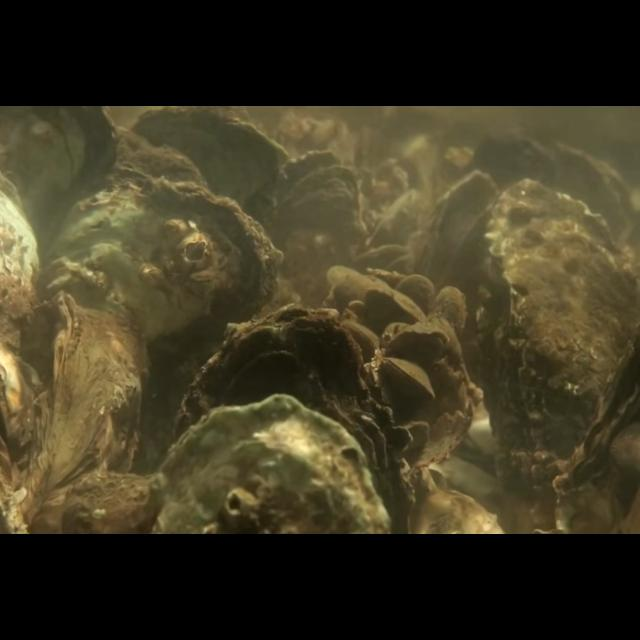Oyster-Closed: (50, 175, 284, 452), (180, 306, 412, 534), (475, 178, 635, 476), (152, 393, 390, 535), (381, 357, 435, 399), (387, 329, 449, 361)
Oyster-Indeterminate: (28, 290, 148, 534), (421, 170, 502, 324), (364, 286, 424, 322), (396, 274, 436, 322), (434, 284, 466, 336)
Oyster-Open: (264, 150, 360, 292)
